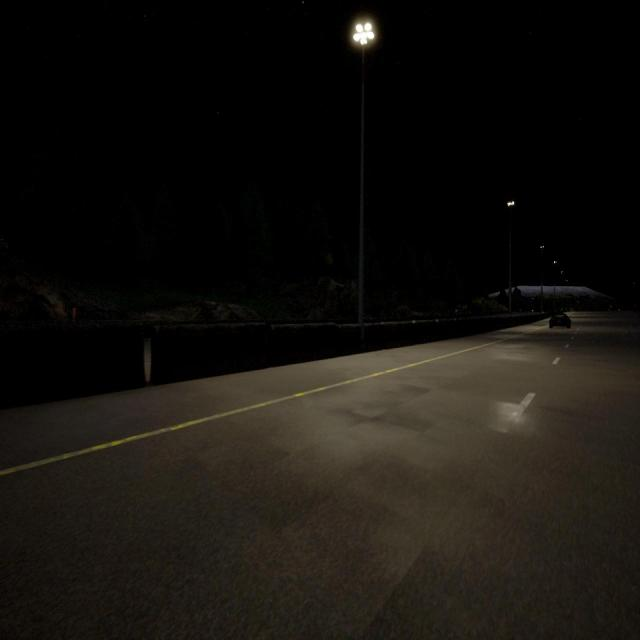Vehicle: (548, 313, 572, 329)
traffic_light: (73, 308, 76, 317)
